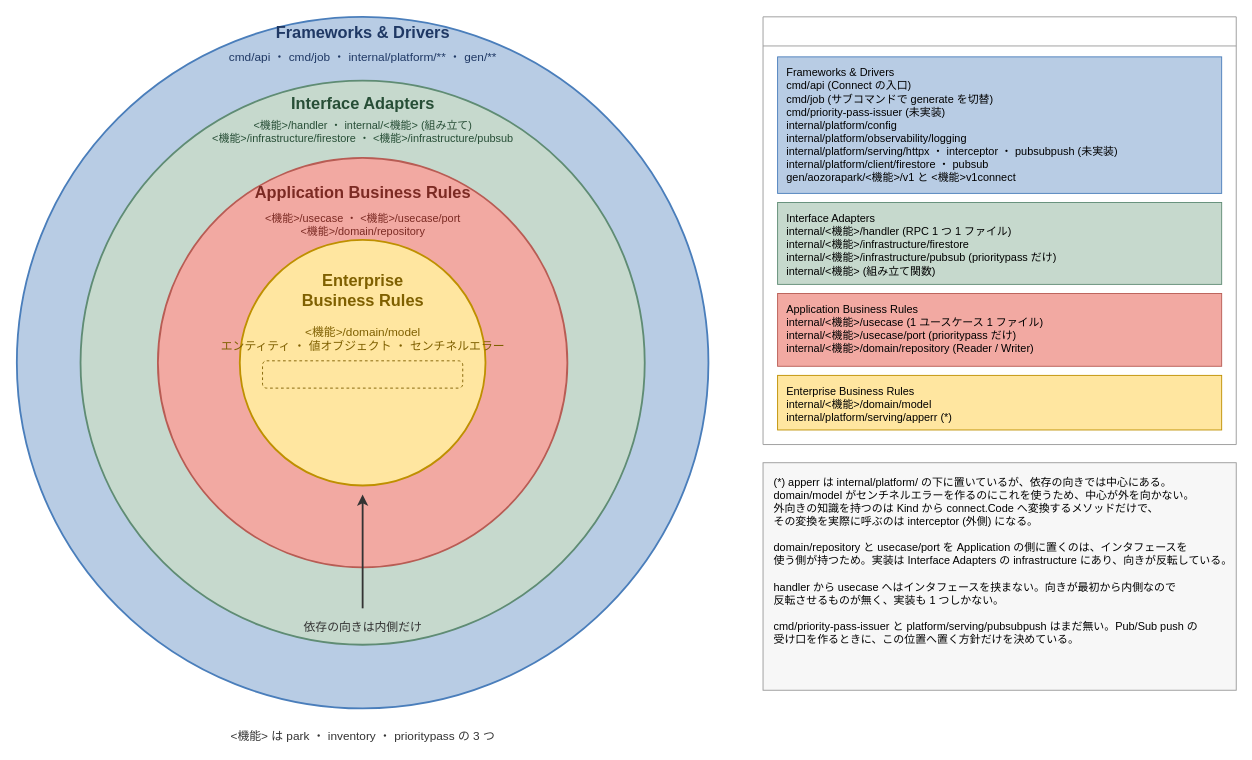
The diagram is 1252 pixels wide and 760 high, and some of its shapes have lost their labels. Each missing label, with the box of its shape:
platform/serving/apperr (*): (262, 360, 463, 388)
各リングに入るパッケージ: (762, 16, 1236, 445)
